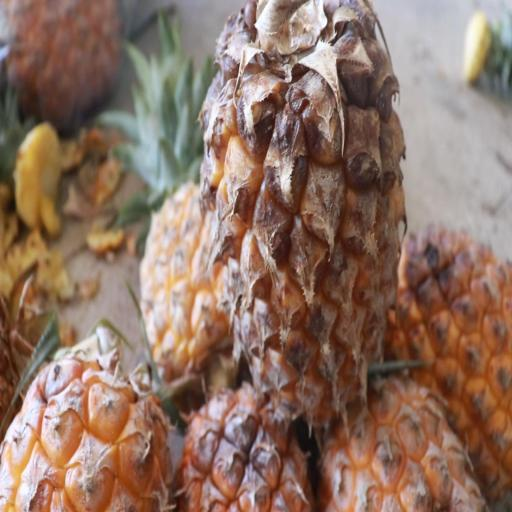Pineapple - v8 v1: (180, 0, 408, 447), (136, 116, 270, 405), (392, 211, 512, 511), (0, 321, 177, 512), (315, 333, 492, 509), (178, 352, 314, 511)
